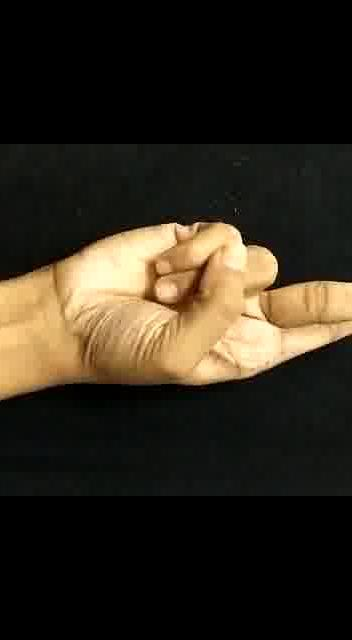kartarimukh: (25, 208, 352, 422)
